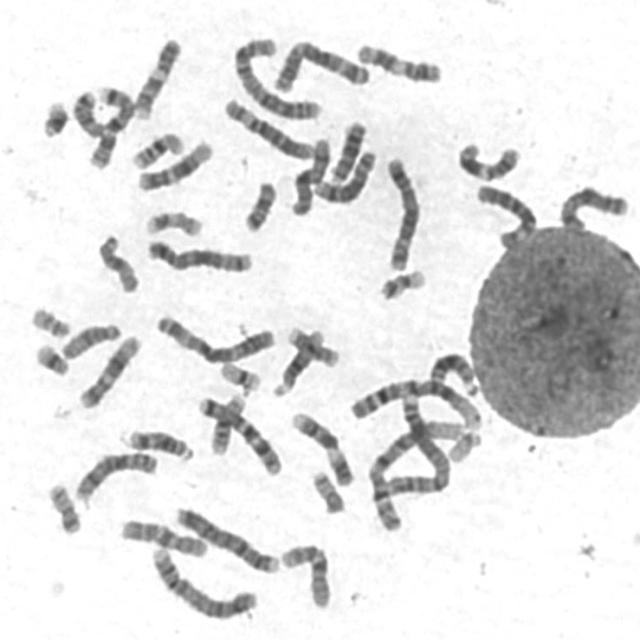A1: (363, 412, 469, 533), (346, 371, 484, 430)
A2: (366, 384, 454, 504), (228, 31, 325, 121)
A3: (150, 308, 279, 366), (268, 34, 373, 94)
B4: (145, 540, 260, 622), (168, 500, 282, 575)
B5: (380, 149, 423, 273), (140, 233, 256, 275)
C10: (275, 535, 335, 611), (114, 512, 210, 559)
C11: (352, 36, 445, 84), (451, 135, 523, 183)
C12: (73, 328, 144, 411), (132, 134, 216, 192)
C6: (219, 92, 317, 162), (470, 177, 540, 249)
C7: (191, 389, 284, 476), (82, 78, 137, 170)
C8: (68, 444, 160, 502), (308, 143, 379, 206)
C9: (286, 405, 356, 488), (128, 32, 184, 121)
D13: (325, 114, 369, 186), (422, 346, 480, 398)
D14: (266, 322, 326, 399), (121, 422, 196, 464)
D15: (92, 227, 142, 295), (56, 316, 123, 361)
E16: (204, 388, 250, 457), (126, 125, 187, 171)
E17: (282, 320, 342, 369), (140, 204, 206, 239)
E18: (238, 174, 280, 234), (68, 84, 108, 140)
F19: (373, 262, 430, 302), (214, 354, 264, 392)
F20: (42, 476, 84, 536), (306, 464, 348, 516)
G21: (29, 337, 72, 378), (35, 93, 71, 140)
G22: (25, 300, 73, 339), (443, 426, 485, 464)
X: (554, 178, 632, 235), (286, 131, 333, 218)
